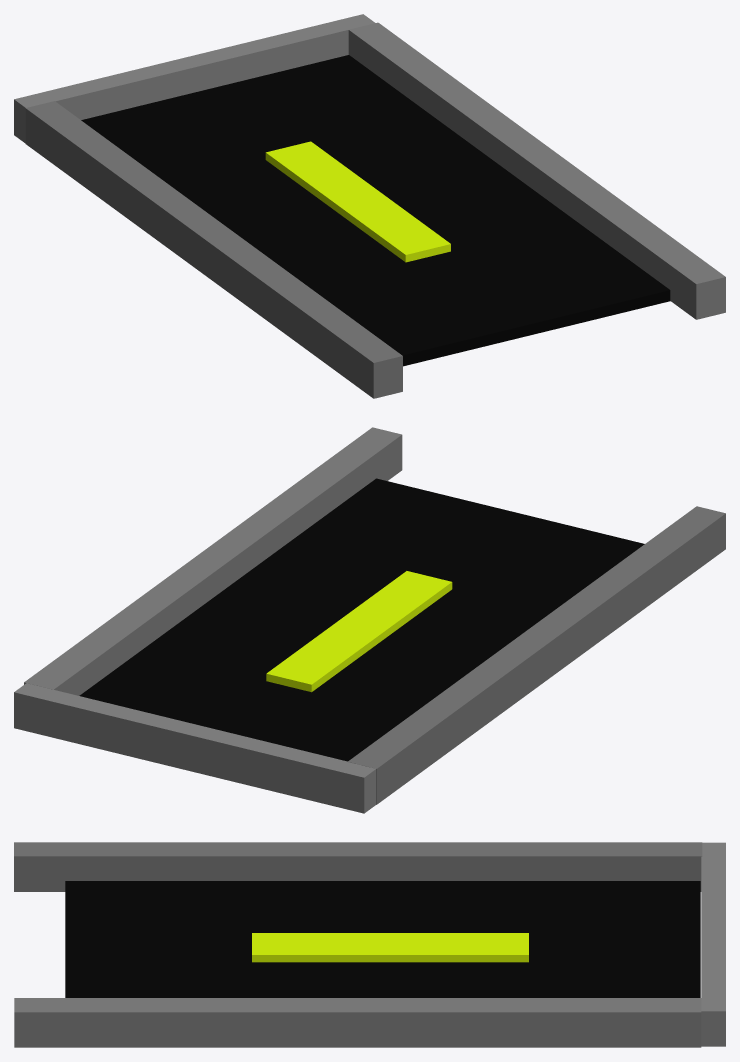
Rendered from дорога конец.fbx.
The picture shows the model from 3 angles, top to bottom: view 1: azimuth 30°, elevation 25°; view 2: azimuth 150°, elevation 25°; view 3: azimuth 270°, elevation 25°; orthographic projection.
Visible parts, largest first — view 1: Cube.002, Cube, Cube.001, Cube.003, Cube.004; view 2: Cube.002, Cube, Cube.001, Cube.003, Cube.004; view 3: Cube.002, Cube.001, Cube, Cube.004, Cube.003.
Part boxes in pixels (x1,y1,x2,y2): Cube.002: (81,55,670,366); Cube: (25,101,402,398); Cube.001: (348,22,725,319); Cube.003: (14,14,375,143); Cube.004: (265,141,450,262); Cube.002: (79,478,644,761); Cube: (348,506,725,804); Cube.001: (24,427,402,695); Cube.003: (14,683,376,813); Cube.004: (266,571,452,692); Cube.002: (65,881,700,997); Cube.001: (14,998,701,1047); Cube: (14,842,702,891); Cube.004: (252,933,528,962); Cube.003: (701,842,725,1046).
Size of the model in its own units: 6868 by 670 by 12163.
